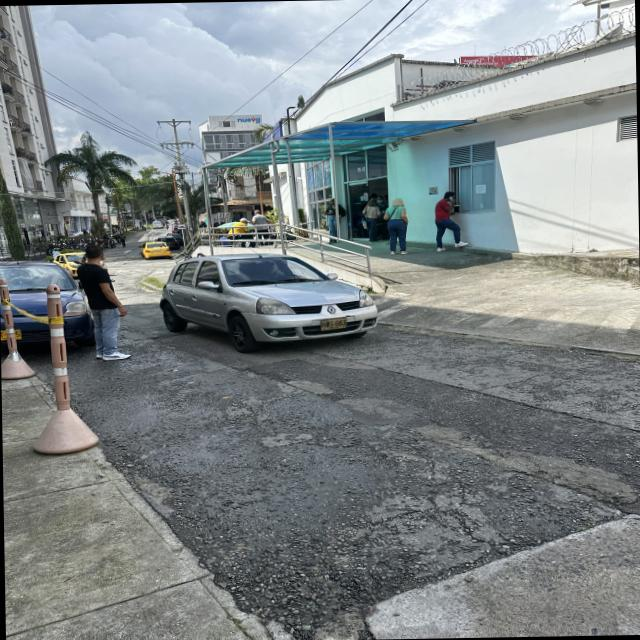number plate: (320, 317, 346, 330)
